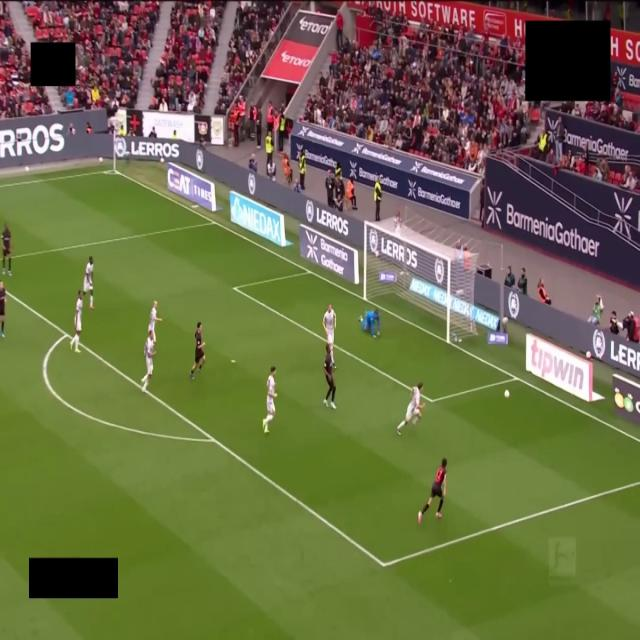ball: (504, 390, 509, 398)
player: (418, 458, 446, 523), (397, 383, 424, 434), (263, 367, 276, 433), (190, 322, 205, 379), (141, 331, 155, 392), (323, 304, 336, 367), (324, 344, 335, 408), (71, 291, 82, 352), (360, 310, 380, 337), (148, 301, 161, 342), (83, 256, 93, 309), (2, 223, 11, 276), (0, 281, 6, 337)
